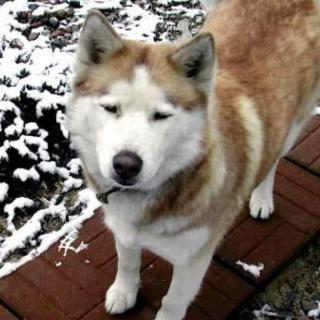dog: (62, 16, 224, 203)
nose: (109, 148, 146, 182)
